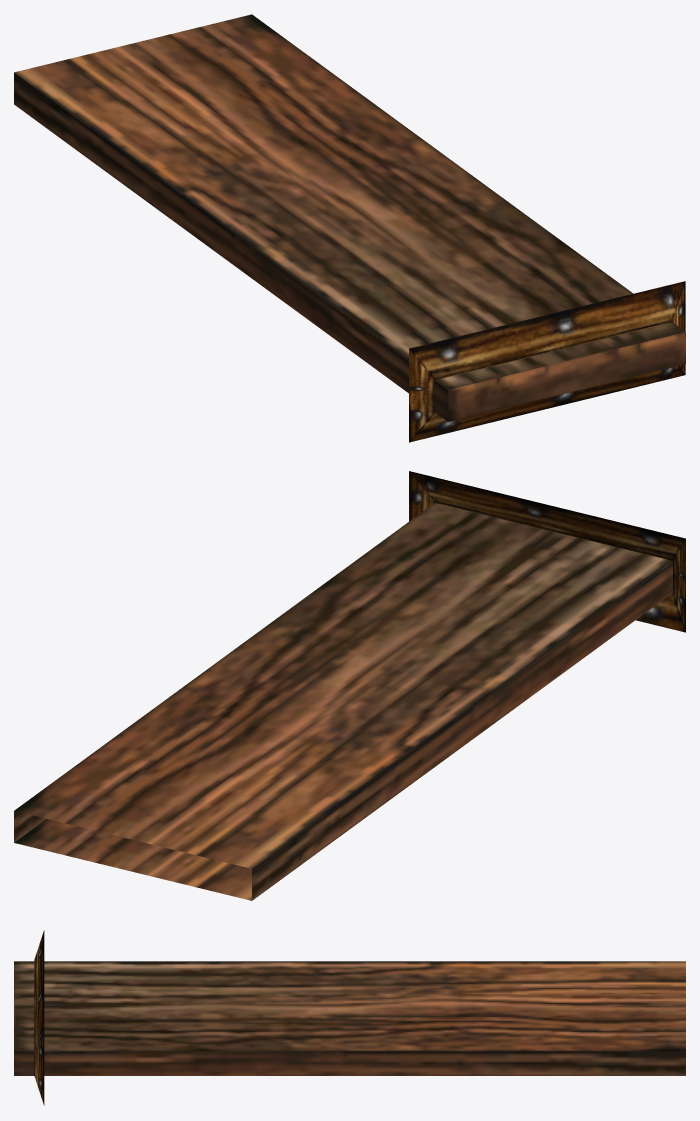
Rendered from INST_WH_SLIDEPLATFORM_01.fbx.
3 views of the same model, one above another, from view 1: azimuth 30°, elevation 25°; view 2: azimuth 150°, elevation 25°; view 3: azimuth 270°, elevation 25° (orthographic). The views are drawn at different scales.
Parts seen in each view (by area): view 1: INST_WH_SLIDEPLATFORM_01; view 2: INST_WH_SLIDEPLATFORM_01; view 3: INST_WH_SLIDEPLATFORM_01.
Part boxes in pixels (left/top/right/bottom): INST_WH_SLIDEPLATFORM_01: left=14, top=14, right=685, bottom=442; INST_WH_SLIDEPLATFORM_01: left=14, top=471, right=685, bottom=900; INST_WH_SLIDEPLATFORM_01: left=14, top=930, right=685, bottom=1105.
Bounding box in the file's own units: 11118 × 3611 × 30200.
Materials: 2 (2 with a texture image).
